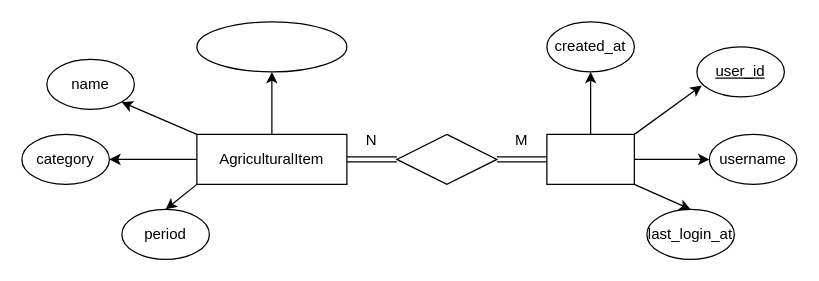
This 819x281 diagram has some shape labels left out. The box of each missing label's shape, as (x1, y1, x2, y2) in pixels:
AgriculturalItem.id: (196, 21, 347, 72)
User: (546, 133, 634, 184)
收藏: (396, 133, 497, 184)
